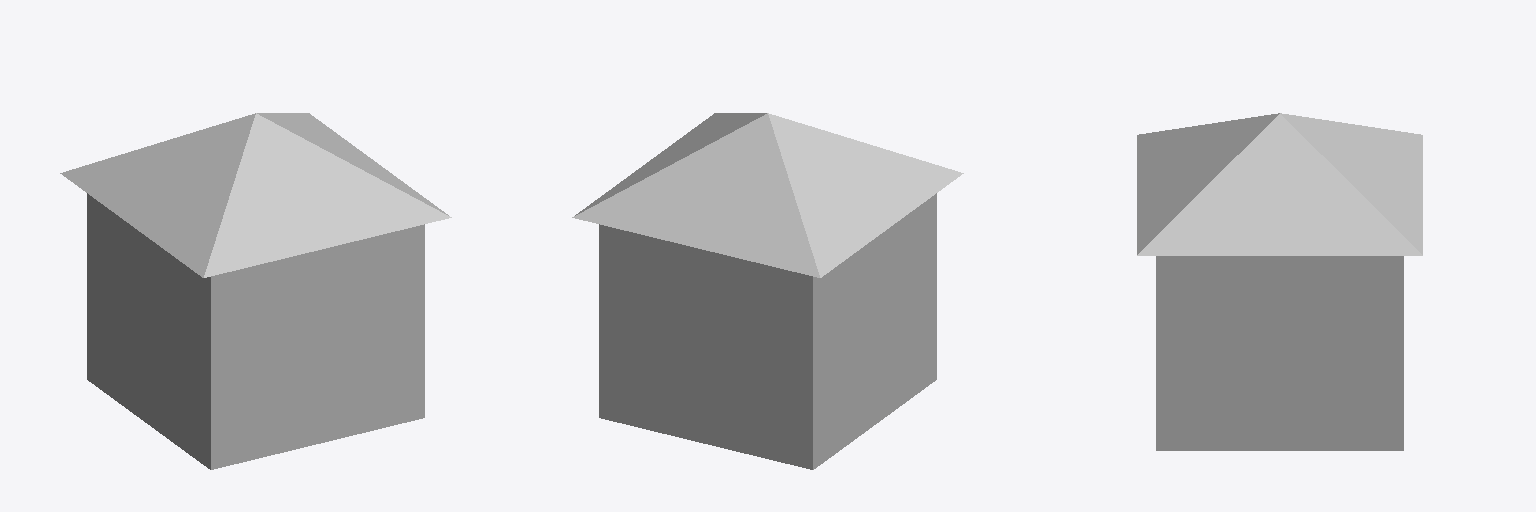
The model's file is House.obj.
3 views of the same model, side by side, from view 1: azimuth 30°, elevation 25°; view 2: azimuth 150°, elevation 25°; view 3: azimuth 270°, elevation 25° (orthographic).
Visible parts, largest first — view 1: House_Cube.003; view 2: House_Cube.003; view 3: House_Cube.003.
Boxes of the visible parts, x1,y1,x2,y2 form: House_Cube.003: [60, 113, 451, 469]; House_Cube.003: [572, 113, 963, 469]; House_Cube.003: [1137, 113, 1422, 450].
Size of the model in its own units: 0.1841 by 0.2023 by 0.1841.